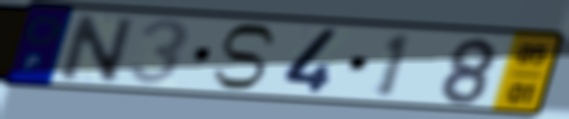1: (374, 31, 414, 99)
3: (129, 17, 196, 88)
4: (278, 25, 344, 98)
8: (438, 34, 500, 106)
N: (57, 12, 138, 83)
S: (209, 22, 281, 93)
